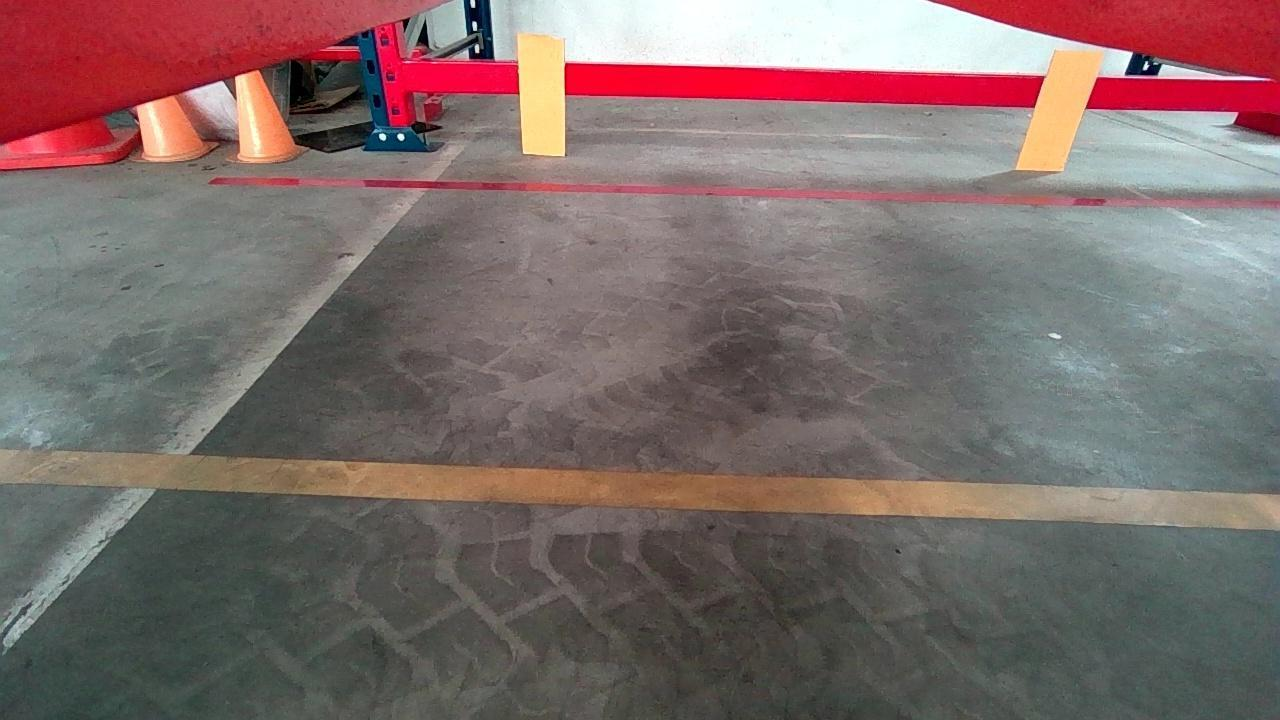h_rack: (408, 61, 1279, 115)
orange_strip: (1019, 48, 1110, 172), (519, 34, 563, 156)
red_line: (205, 174, 1280, 207)
yellow_line: (0, 450, 1277, 527)
